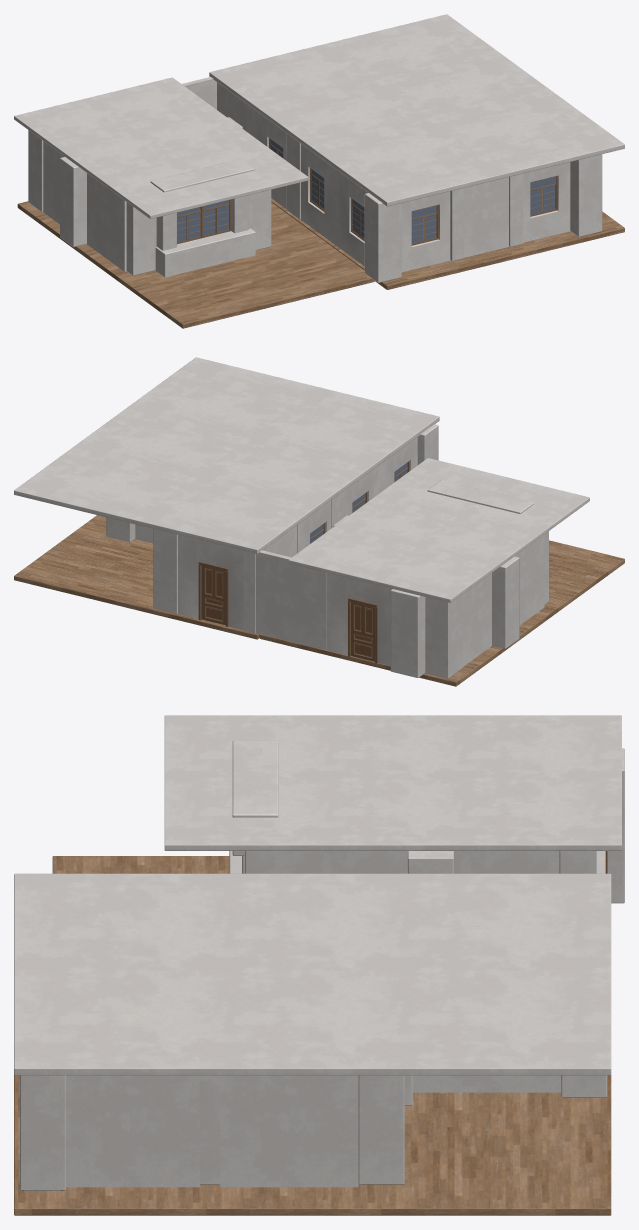
Rendered from PllayerApartment.gltf.
3 views of the same model, one above another, from view 1: azimuth 30°, elevation 25°; view 2: azimuth 150°, elevation 25°; view 3: azimuth 270°, elevation 25° (orthographic). The views are drawn at different scales.
Visible parts, largest first — view 1: SM_floor_module__5_, SM_floor_module__3_, SM_floor_module__2_, SM_floor_module__4_, SM_wall_module_01__15_, SM_wall_module_pillar_02__17_, SM_wall_module_pillar_02__09_, SM_wall_module_01__12_, SM_wall_module_window__3_, SM_wall_module_pillar_02__21_, SM_wall_module_window__4_, SM_wall_module_window__1_ (+21 smaller); view 2: SM_floor_module__5_, SM_floor_module__3_, SM_floor_module__4_, SM_wall_module_01__10_, SM_floor_module__2_, SM_wall_module_doorway, SM_wall_module_doorway__1_, SM_wall_module_pillar_02__15_, SM_wall_module_pillar_02__13_, SM_wall_module_pillar_02__14_, SM_wall_module_01__11_, SM_wall_module_pillar_02__16_ (+12 smaller); view 3: SM_floor_module__5_, SM_floor_module__3_, SM_floor_module__4_, SM_wall_module_01__16_, SM_wall_module_01__14_, SM_wall_module_pillar_02__21_, SM_wall_module_pillar_02__22_, SM_wall_module_pillar_02__10_, SM_floor_module__2_, SM_wall_module_01__8_, SM_wall_module_01__17_, SM_wall_module_01__09_ (+6 smaller).
Part boxes in pixels (x1=…): SM_floor_module__5_: x1=209, y1=14, x2=624, y2=206; SM_floor_module__3_: x1=14, y1=77, x2=308, y2=218; SM_floor_module__2_: x1=17, y1=201, x2=374, y2=328; SM_floor_module__4_: x1=271, y1=198, x2=624, y2=289; SM_wall_module_01__15_: x1=463, y1=173, x2=523, y2=257; SM_wall_module_pillar_02__17_: x1=364, y1=193, x2=401, y2=282; SM_wall_module_pillar_02__09_: x1=155, y1=228, x2=255, y2=277; SM_wall_module_01__12_: x1=87, y1=173, x2=126, y2=271; SM_wall_module_window__3_: x1=401, y1=191, x2=450, y2=272; SM_wall_module_pillar_02__21_: x1=570, y1=154, x2=602, y2=236; SM_wall_module_window__4_: x1=523, y1=162, x2=570, y2=242; SM_wall_module_window__1_: x1=301, y1=144, x2=336, y2=245; SM_floor_module__5_: x1=14, y1=357, x2=439, y2=553; SM_floor_module__3_: x1=288, y1=458, x2=589, y2=602; SM_floor_module__4_: x1=14, y1=515, x2=259, y2=639; SM_wall_module_01__10_: x1=244, y1=550, x2=317, y2=647; SM_floor_module__2_: x1=259, y1=540, x2=624, y2=686; SM_wall_module_doorway: x1=178, y1=535, x2=243, y2=629; SM_wall_module_doorway__1_: x1=326, y1=573, x2=391, y2=665; SM_wall_module_pillar_02__15_: x1=390, y1=589, x2=425, y2=677; SM_wall_module_pillar_02__13_: x1=425, y1=595, x2=462, y2=678; SM_wall_module_pillar_02__14_: x1=492, y1=556, x2=519, y2=648; SM_wall_module_01__11_: x1=462, y1=573, x2=491, y2=667; SM_wall_module_pillar_02__16_: x1=153, y1=529, x2=177, y2=613; SM_floor_module__5_: x1=14, y1=873, x2=611, y2=1075; SM_floor_module__3_: x1=164, y1=715, x2=621, y2=850; SM_floor_module__4_: x1=14, y1=1075, x2=611, y2=1215; SM_wall_module_01__16_: x1=220, y1=1075, x2=358, y2=1187; SM_wall_module_01__14_: x1=66, y1=1075, x2=199, y2=1187; SM_wall_module_pillar_02__21_: x1=20, y1=1075, x2=65, y2=1190; SM_wall_module_pillar_02__22_: x1=358, y1=1075, x2=404, y2=1184; SM_wall_module_pillar_02__10_: x1=232, y1=740, x2=278, y2=855; SM_floor_module__2_: x1=52, y1=856, x2=229, y2=873; SM_wall_module_01__8_: x1=282, y1=851, x2=407, y2=873; SM_wall_module_01__17_: x1=412, y1=1075, x2=561, y2=1092; SM_wall_module_01__09_: x1=454, y1=851, x2=559, y2=873.
Size of the model in its own units: 18.23 by 3.96 by 13.25.
Materials: 40 (37 with a texture image).
